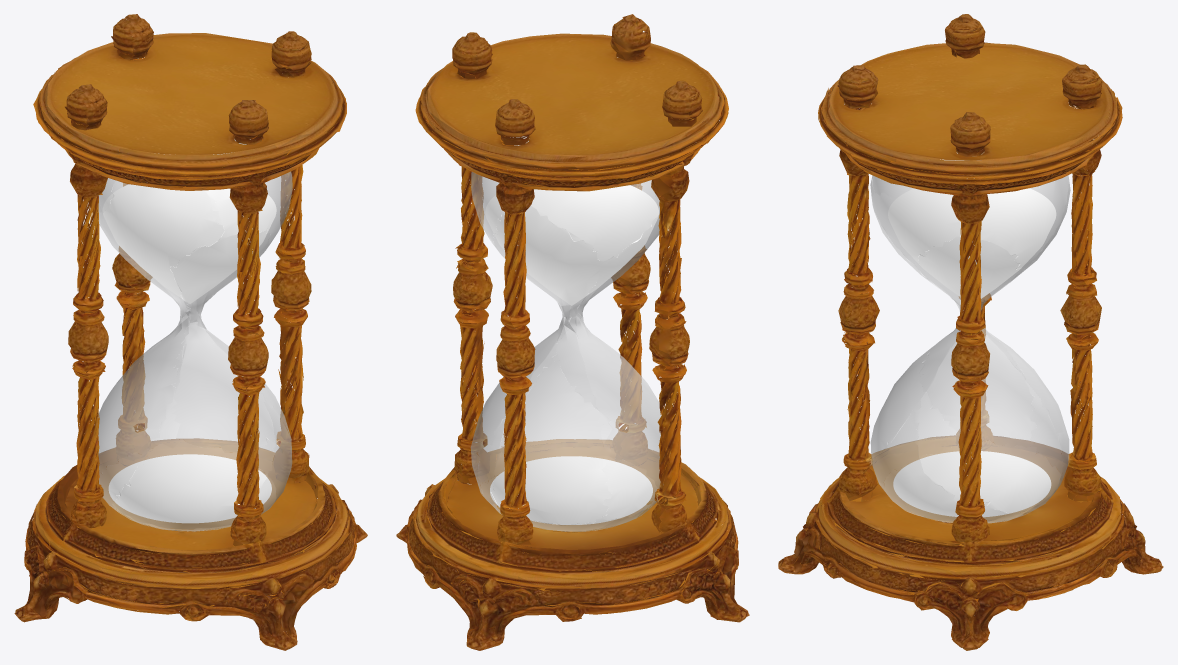
Rendered from time3.glb.
3 views of the same model, side by side, from view 1: azimuth 30°, elevation 25°; view 2: azimuth 150°, elevation 25°; view 3: azimuth 270°, elevation 25° (orthographic). The views are drawn at different scales.
Parts seen in each view (by area): view 1: material_001, material_002, timeup, timedown; view 2: material_001, material_002, timeup, timedown; view 3: material_001, material_002, timeup, timedown.
Part boxes in pixels (box(x1,y1,x2,y2)): material_001: box(14, 14, 367, 650); material_002: box(98, 139, 292, 531); timeup: box(102, 184, 276, 303); timedown: box(108, 454, 271, 523); material_001: box(396, 14, 749, 650); material_002: box(470, 136, 663, 531); timeup: box(485, 185, 658, 305); timedown: box(490, 456, 652, 524); material_001: box(778, 14, 1163, 650); material_002: box(870, 152, 1070, 523); timeup: box(888, 188, 1056, 298); timedown: box(893, 451, 1051, 517).
Bounding box in the file's own units: 0.2277 × 0.3276 × 0.2265.
Materials: 3 (1 with a texture image).
